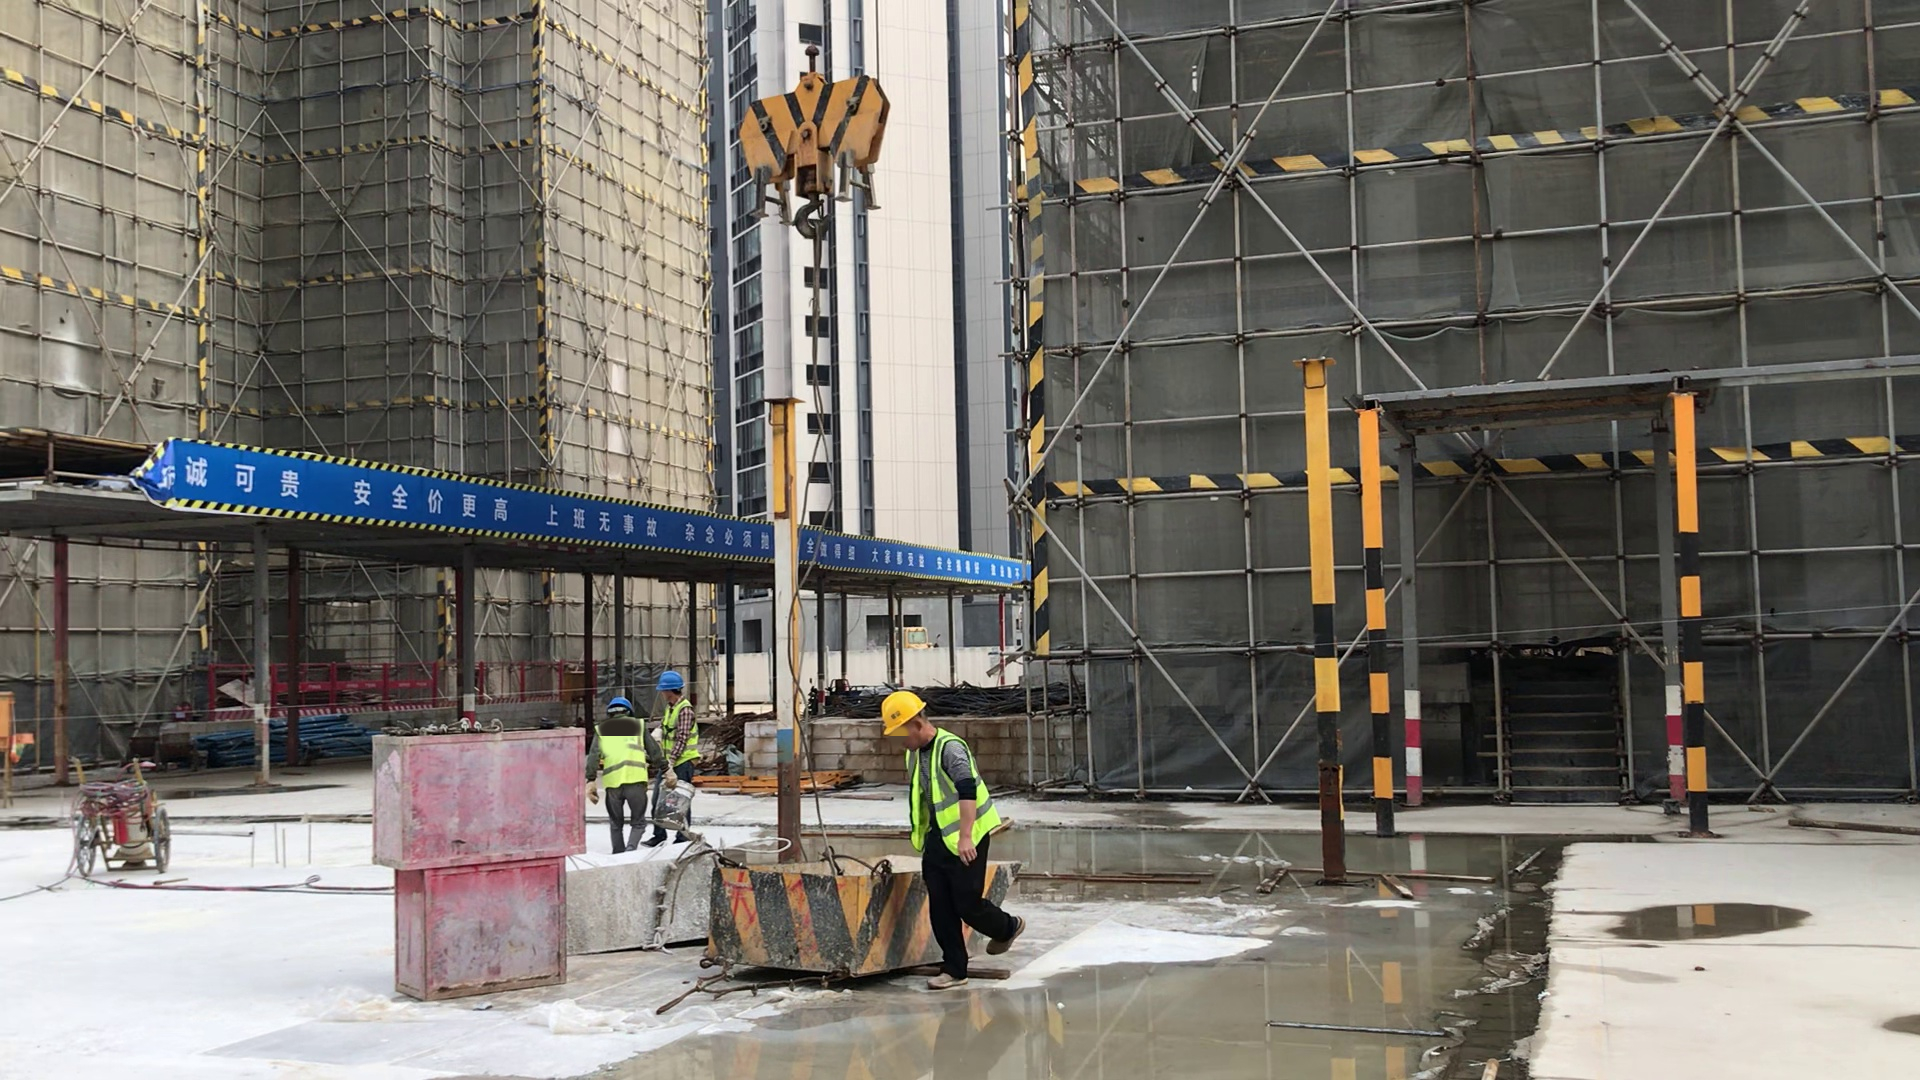fence: (221, 646, 619, 723)
handcart: (69, 761, 167, 880)
helmet: (877, 690, 923, 728), (654, 667, 691, 691), (608, 689, 637, 704)
hook: (717, 30, 895, 227)
hopper: (700, 832, 985, 979), (552, 835, 708, 960)
person: (855, 686, 1026, 982), (580, 693, 659, 848), (634, 665, 708, 812)
slogan: (112, 423, 1037, 606)
vest: (908, 743, 996, 854), (588, 726, 649, 783), (652, 704, 701, 763)
